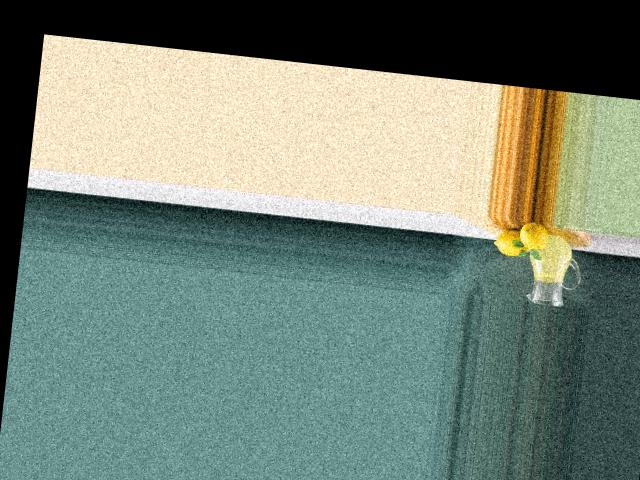lemon: (512, 222, 550, 252)
